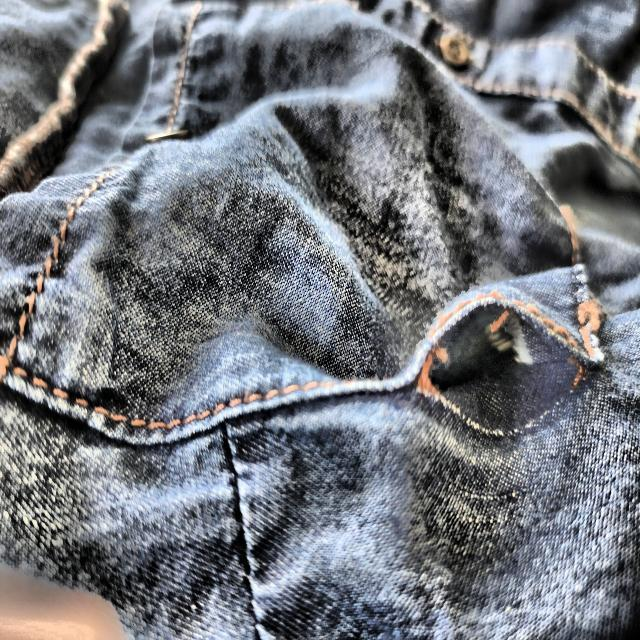gray stitch: (404, 282, 599, 451)
